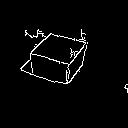cube: (20, 20, 95, 96)
